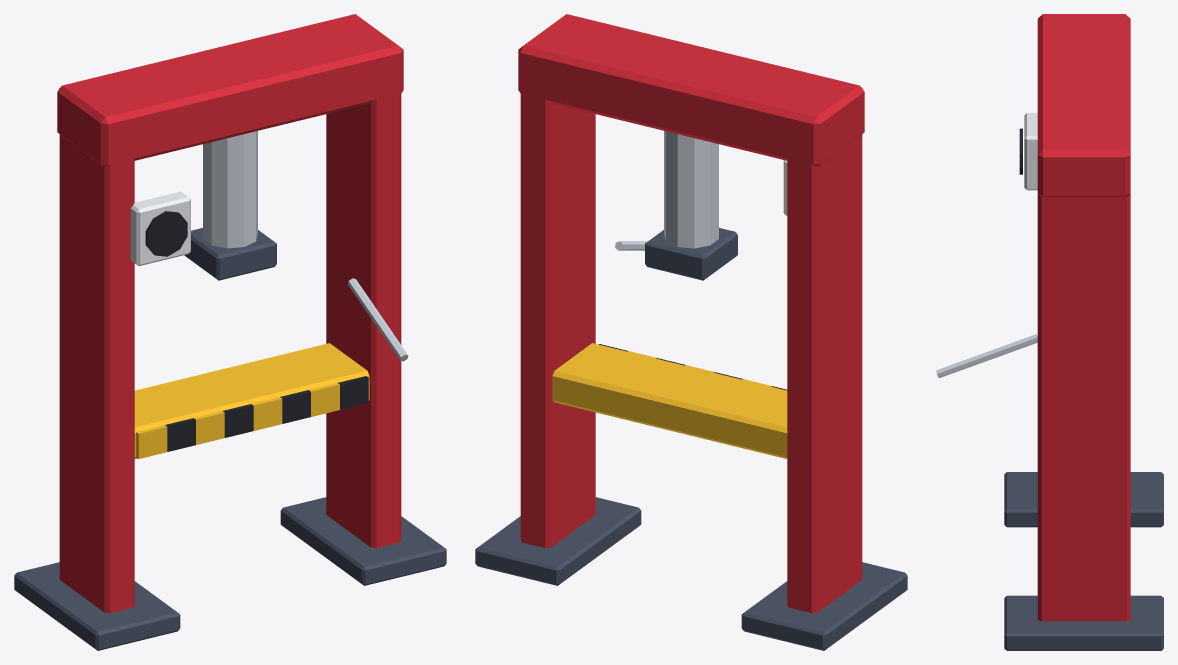
File: HydraulicPress.fbx
3 renders of one model, left to right at view 1: azimuth 30°, elevation 25°; view 2: azimuth 150°, elevation 25°; view 3: azimuth 270°, elevation 25°, orthographic. The views are drawn at different scales.
Visible parts, largest first — view 1: HydraulicPress; view 2: HydraulicPress; view 3: HydraulicPress.
Part boxes in pixels (left/top/right/bottom): HydraulicPress: left=14, top=14, right=446, bottom=650; HydraulicPress: left=475, top=14, right=907, bottom=650; HydraulicPress: left=936, top=14, right=1163, bottom=650.
Bounding box in the file's own units: 5.8 × 8.1 × 3.43.
1 material, 1 textured.
